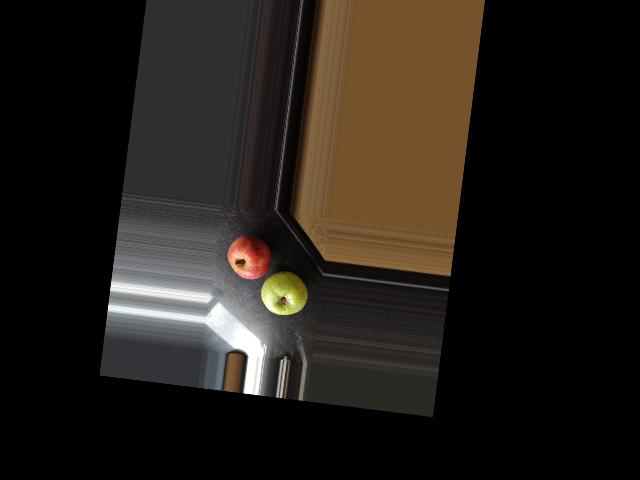apple: (222, 230, 272, 282)
